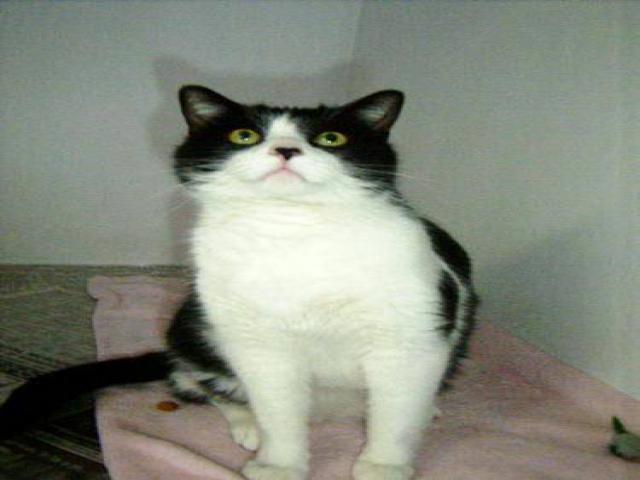cat: (155, 79, 491, 480)
